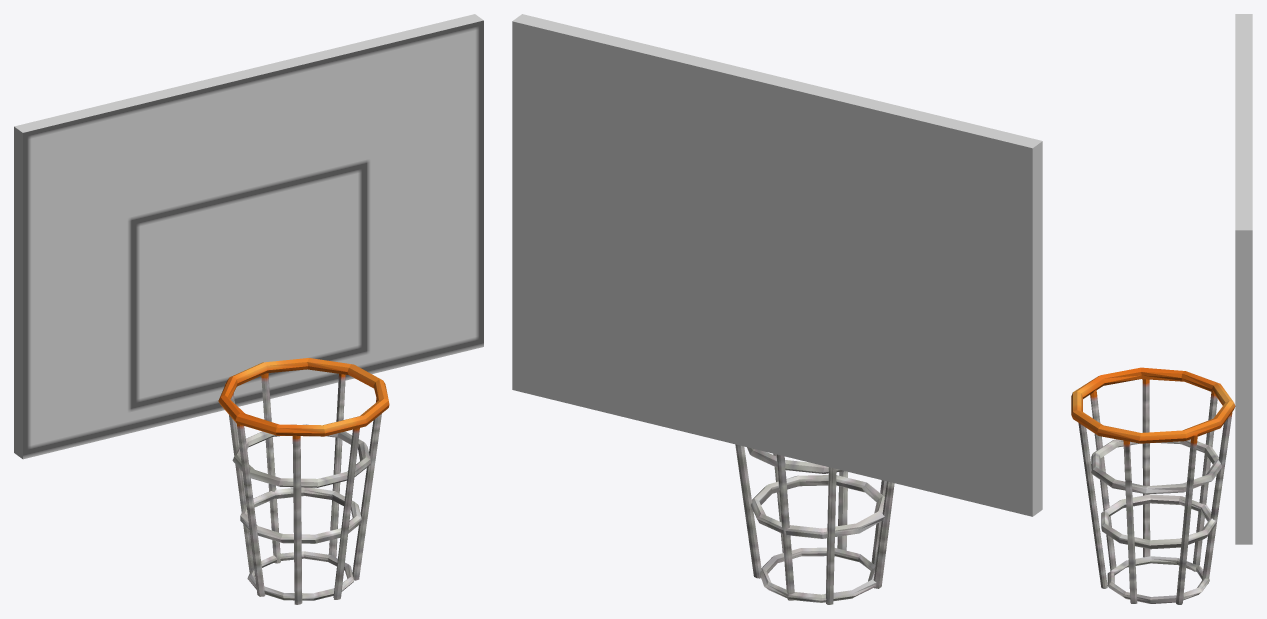
Rendered from Basket.glb.
The picture shows the model from 3 angles, left to right: view 1: azimuth 30°, elevation 25°; view 2: azimuth 150°, elevation 25°; view 3: azimuth 270°, elevation 25°; orthographic projection. The views are drawn at different scales.
Visible parts, largest first — view 1: Basket; view 2: Basket; view 3: Basket.
Part boxes in pixels (x1,y1,x2,y2): Basket: (14,14,483,604); Basket: (512,14,1042,604); Basket: (1071,14,1252,604).
Bounding box in the file's own units: 352 × 347 × 124.
1 material, 1 textured.
